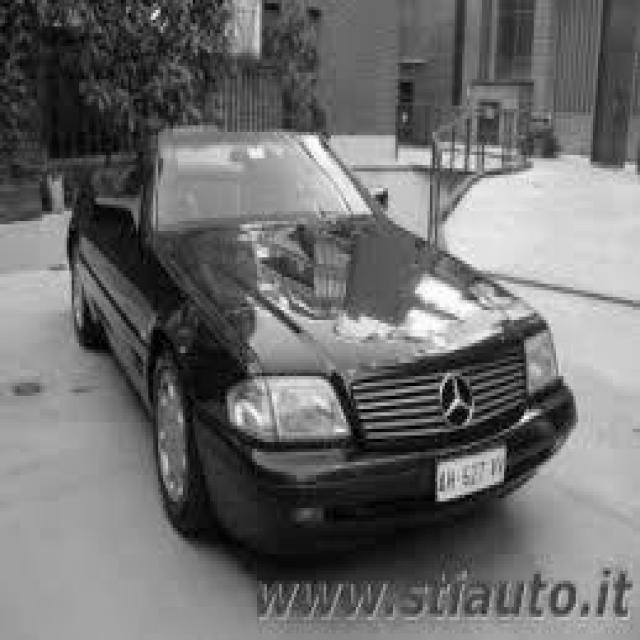car: (64, 122, 578, 558)
plat_license: (435, 440, 504, 510)
